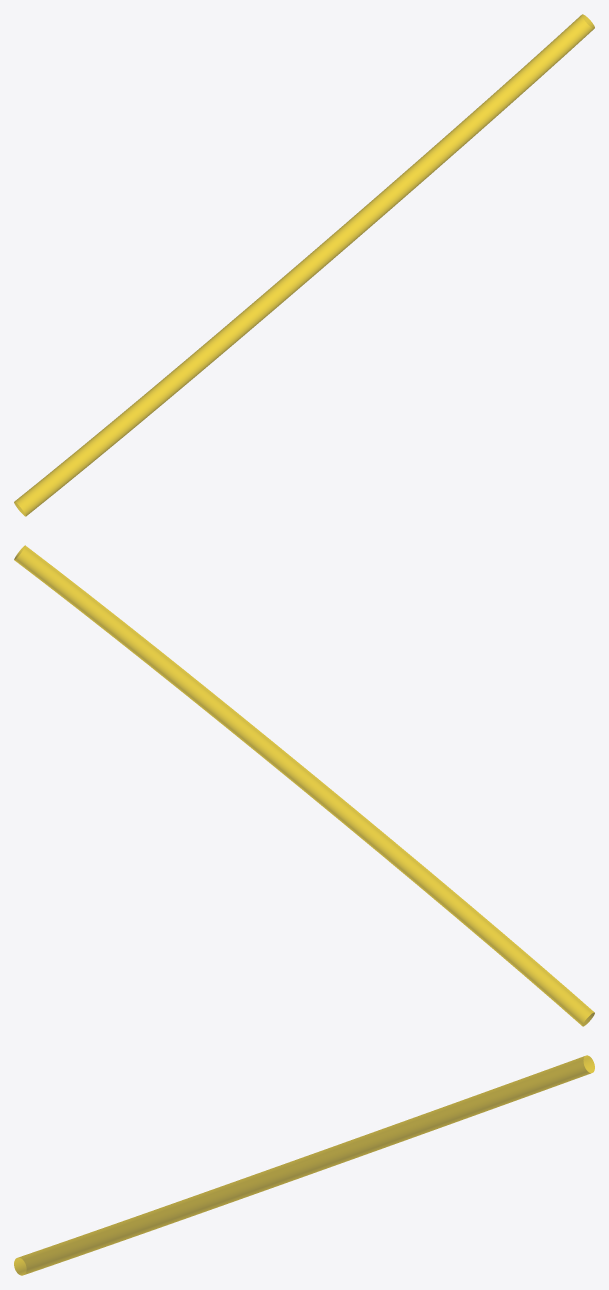
The model's file is Event_15818458_track_0.fbx.
3 views of the same model, one above another, from view 1: azimuth 30°, elevation 25°; view 2: azimuth 150°, elevation 25°; view 3: azimuth 330°, elevation 25° (orthographic). The views are drawn at different scales.
Parts seen in each view (by area): view 1: Model; view 2: Model; view 3: Model.
Boxes of the visible parts, <box> form: Model: <box>14,14,594,516</box>; Model: <box>14,545,594,1026</box>; Model: <box>14,1055,594,1275</box>.
Size of the model in its own units: 1.41 by 0.8245 by 0.0757.
